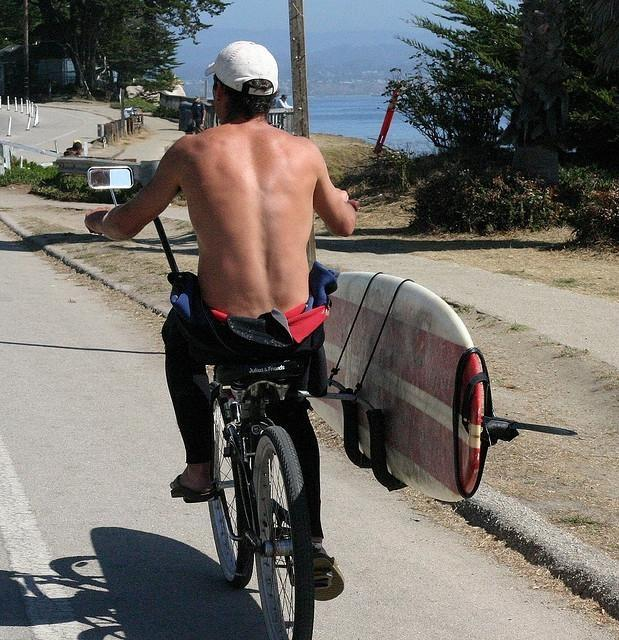bicycle: (206, 362, 314, 630)
